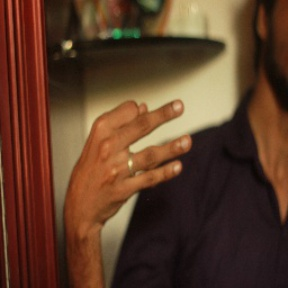K: (72, 90, 195, 209)
